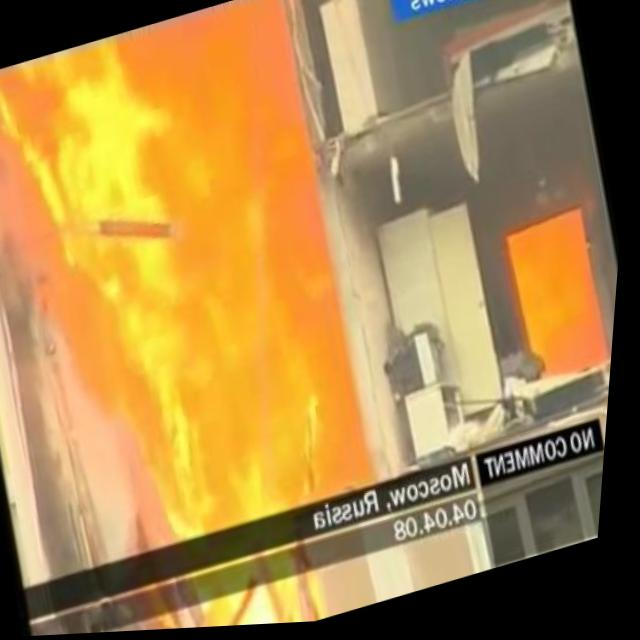fire: (0, 0, 411, 593), (499, 211, 622, 399)
